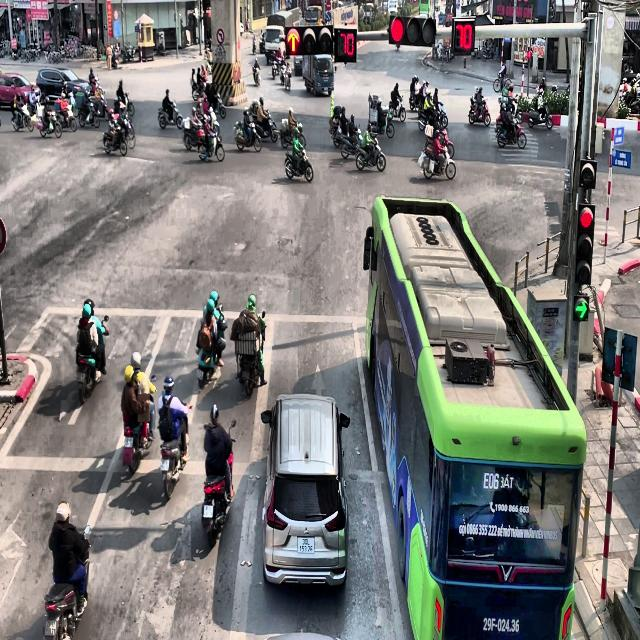BUS: (363, 195, 587, 639)
CAR: (261, 393, 350, 588), (36, 67, 92, 102), (0, 71, 41, 110)
MOTORBIKE: (42, 526, 90, 640), (201, 420, 236, 548), (122, 375, 156, 474), (159, 402, 192, 500), (76, 315, 109, 405), (235, 310, 266, 396), (196, 306, 226, 389), (421, 137, 456, 180), (108, 108, 136, 149), (355, 136, 386, 172), (495, 114, 526, 149), (103, 113, 128, 156), (284, 147, 313, 182), (198, 125, 225, 162), (38, 97, 62, 138), (528, 91, 553, 129), (233, 120, 262, 152), (418, 103, 448, 132), (183, 116, 207, 151), (11, 96, 34, 132), (77, 92, 100, 128), (54, 98, 77, 132), (158, 100, 184, 130), (204, 84, 226, 119), (254, 111, 278, 143), (280, 119, 306, 148), (368, 111, 394, 139), (468, 96, 491, 126), (340, 128, 362, 158), (387, 95, 406, 122), (328, 120, 344, 147), (270, 53, 286, 79), (494, 71, 511, 93), (409, 85, 423, 111), (121, 92, 135, 117), (280, 62, 291, 90), (252, 65, 260, 86)
TRAFFIC_LIGHT: (575, 202, 595, 286), (388, 13, 436, 46), (334, 27, 357, 62), (452, 18, 475, 53)
